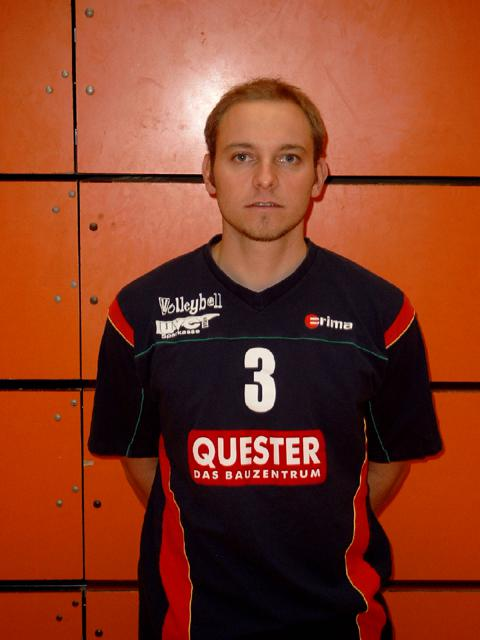Person: (88, 79, 442, 640)
